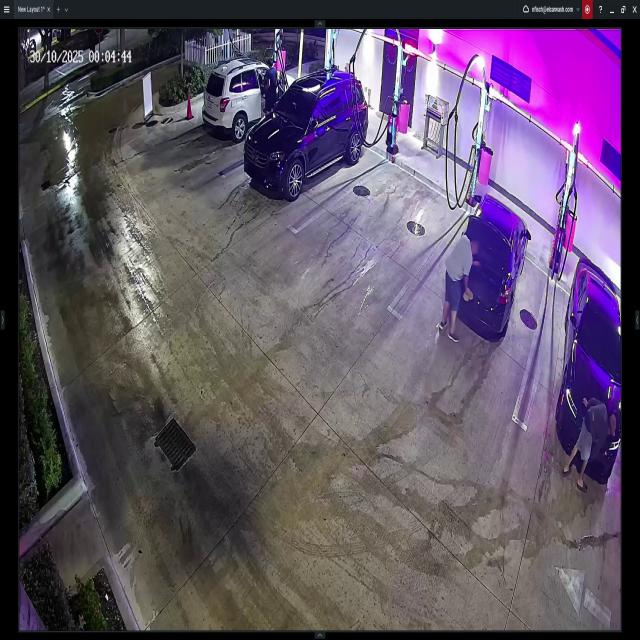Car: (244, 66, 367, 197), (554, 254, 623, 481), (450, 194, 531, 338), (203, 64, 296, 136)
